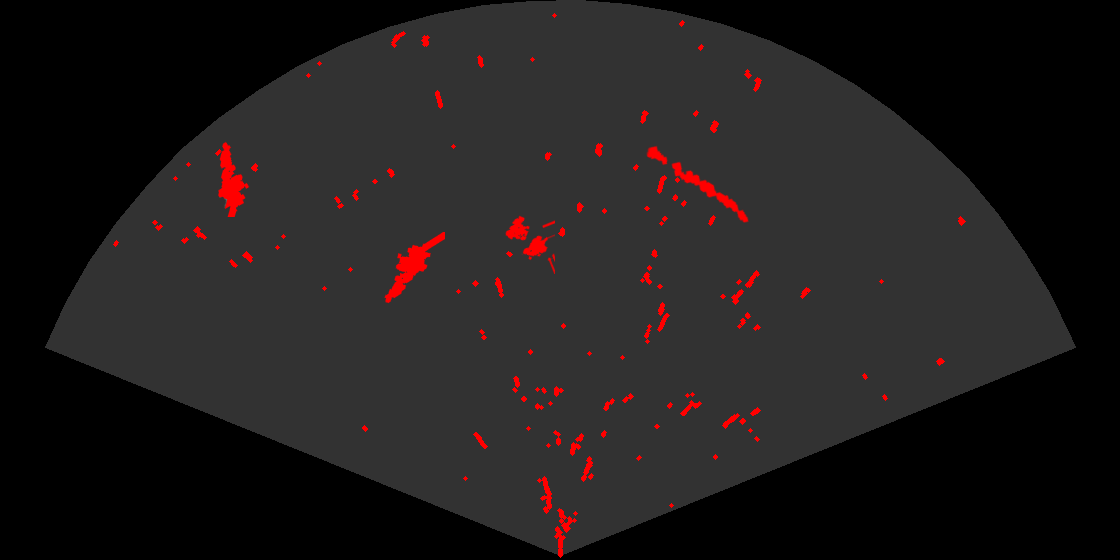cage: (504, 214, 555, 274)
chain: (645, 144, 750, 224)
frogman: (383, 232, 445, 305), (217, 140, 251, 217)
